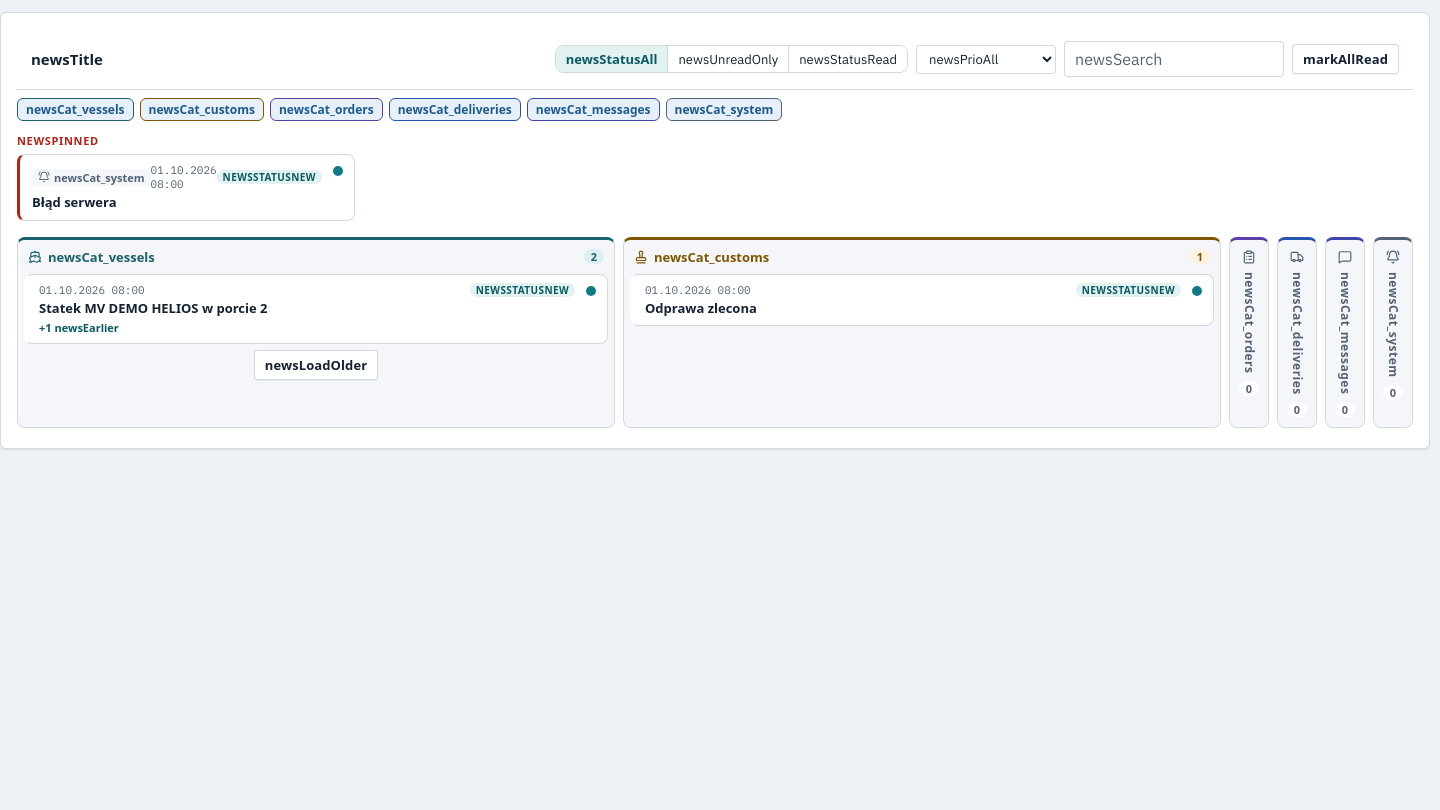
Test: NewsFeed › klik w kartę otwiera szufladę i oznacza jako przeczytaną; Esc zamyka
Click the text "Statek MV DEMO HELIOS w porcie 2": (153,308) [39,298,268,316]
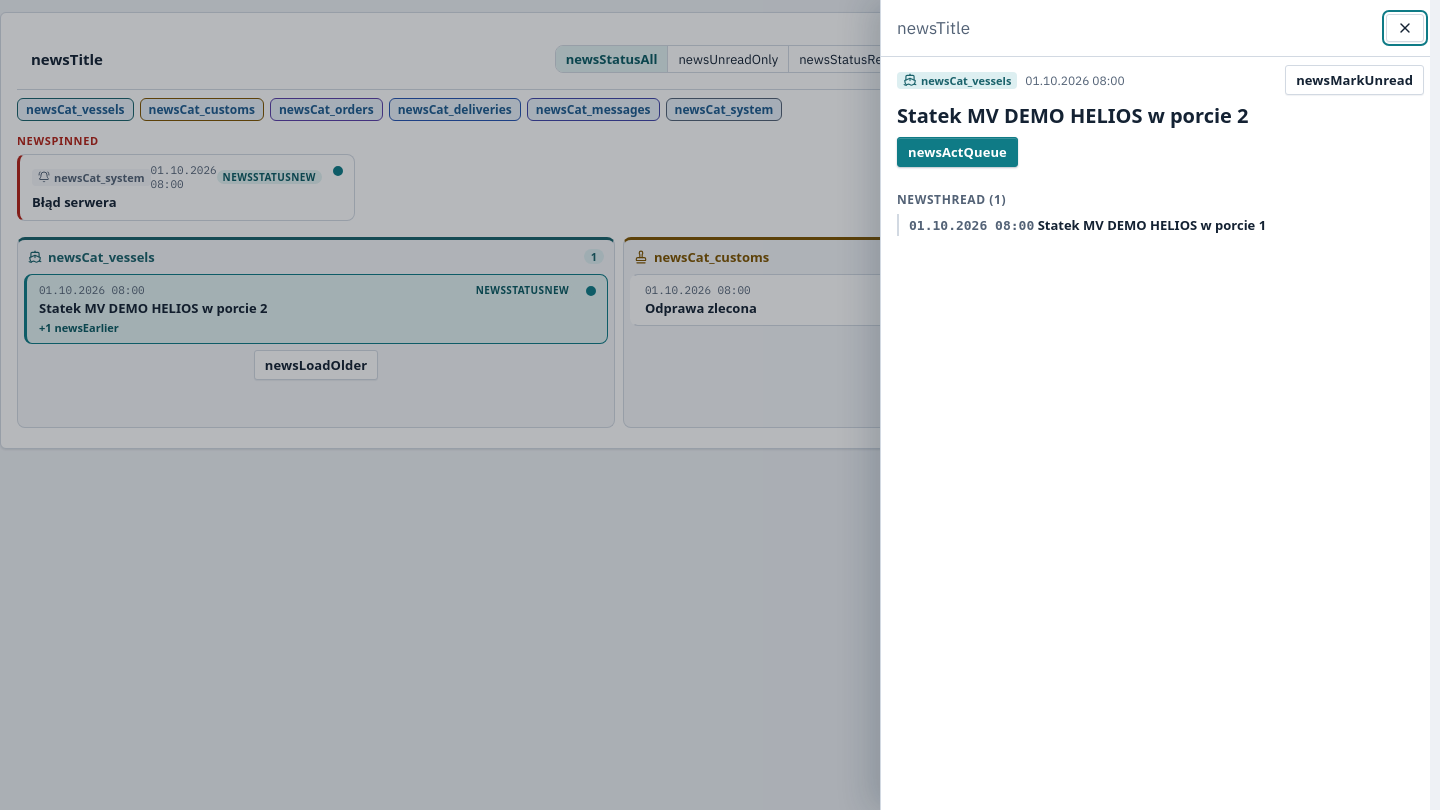
Result: the heading "Statek MV DEMO HELIOS w porcie 2" is shown at [897,102,1248,129]
Result: the link "newsActQueue" is shown at [897,137,1018,167]
Result: the heading "newsThread (1)" is shown at [897,191,1006,208]
Press Escape
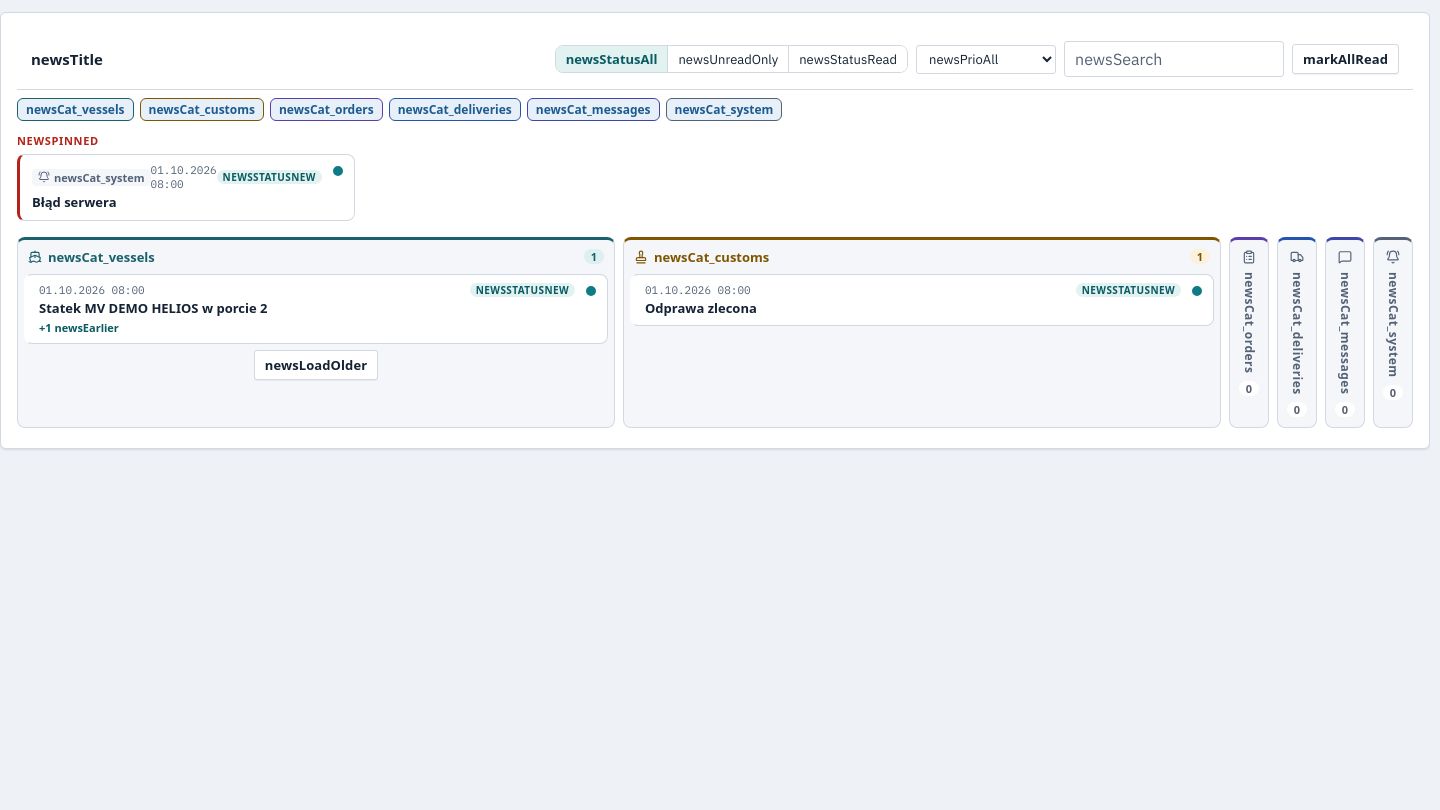
Result: the dialog is gone
